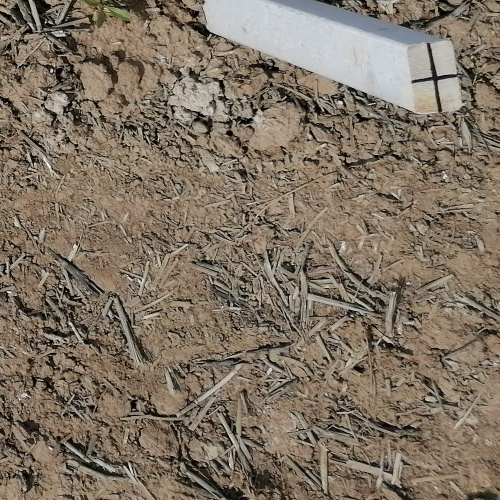beet: (89, 0, 133, 30)
